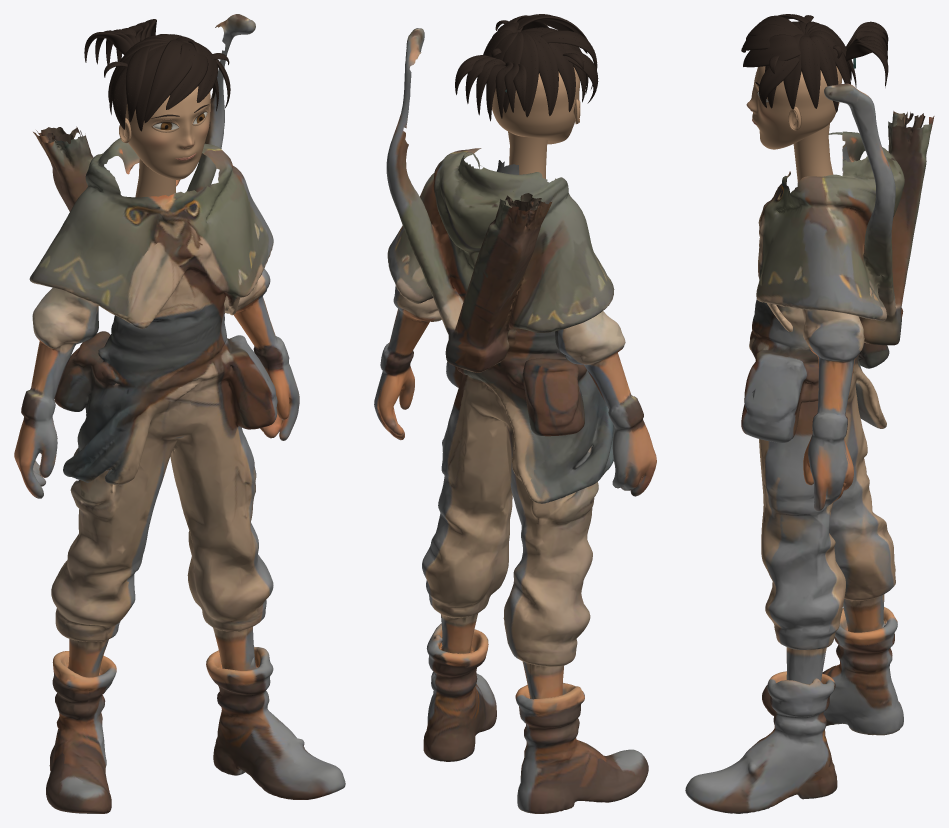
The model's file is willow-repaired.glb.
3 views of the same model, side by side, from view 1: azimuth 30°, elevation 25°; view 2: azimuth 150°, elevation 25°; view 3: azimuth 270°, elevation 25° (orthographic). The views are drawn at different scales.
Parts seen in each view (by area): view 1: Imported Willow clothing, Repaired WILLOW SCOUT continuous facial planes, Repaired WILLOW SCOUT hair swept fringe 0, Repaired WILLOW SCOUT hair swept fringe 1, Repaired WILLOW SCOUT hair swept fringe 4, Repaired fitted neck, Repaired WILLOW SCOUT hair gathered crown 10, Repaired WILLOW SCOUT hair swept fringe 2, Repaired WILLOW SCOUT hair swept fringe 5; view 2: Imported Willow clothing, Repaired WILLOW SCOUT continuous facial planes, Repaired fitted neck, Repaired WILLOW SCOUT hair gathered crown 7, Repaired WILLOW SCOUT hair gathered crown 6, Repaired WILLOW SCOUT hair gathered crown 8, Repaired WILLOW SCOUT hair swept fringe 4, Repaired WILLOW SCOUT hair gathered crown 5; view 3: Imported Willow clothing, Repaired WILLOW SCOUT continuous facial planes, Repaired fitted neck, Repaired WILLOW SCOUT hair swept fringe 2, Repaired WILLOW SCOUT hair gathered crown 2, Repaired WILLOW SCOUT hair swept fringe 3, Repaired WILLOW SCOUT hair gathered crown 3, Repaired WILLOW SCOUT hair swept fringe 1, Repaired WILLOW SCOUT hair gathered crown 1, Repaired WILLOW SCOUT hair tied tuft 6, Repaired WILLOW SCOUT hair gathered crown 4, Repaired WILLOW SCOUT hair swept fringe 0.
Part boxes in pixels (x1,y1,x2,y2): Imported Willow clothing: [14, 14, 345, 813]; Repaired WILLOW SCOUT continuous facial planes: [125, 86, 210, 179]; Repaired WILLOW SCOUT hair swept fringe 0: [144, 39, 192, 122]; Repaired WILLOW SCOUT hair swept fringe 1: [166, 43, 208, 109]; Repaired WILLOW SCOUT hair swept fringe 4: [125, 46, 150, 122]; Repaired fitted neck: [135, 158, 175, 197]; Repaired WILLOW SCOUT hair gathered crown 10: [135, 45, 166, 131]; Repaired WILLOW SCOUT hair swept fringe 2: [188, 41, 217, 102]; Repaired WILLOW SCOUT hair swept fringe 5: [112, 67, 127, 129]; Imported Willow clothing: [374, 28, 656, 813]; Repaired WILLOW SCOUT continuous facial planes: [492, 67, 579, 144]; Repaired fitted neck: [508, 131, 547, 178]; Repaired WILLOW SCOUT hair gathered crown 7: [522, 31, 558, 115]; Repaired WILLOW SCOUT hair gathered crown 6: [520, 32, 538, 117]; Repaired WILLOW SCOUT hair gathered crown 8: [521, 31, 575, 111]; Repaired WILLOW SCOUT hair swept fringe 4: [541, 30, 596, 89]; Repaired WILLOW SCOUT hair gathered crown 5: [502, 32, 524, 112]; Imported Willow clothing: [685, 83, 934, 813]; Repaired WILLOW SCOUT continuous facial planes: [746, 66, 842, 149]; Repaired fitted neck: [793, 123, 833, 181]; Repaired WILLOW SCOUT hair swept fringe 2: [743, 34, 800, 67]; Repaired WILLOW SCOUT hair gathered crown 2: [799, 35, 820, 108]; Repaired WILLOW SCOUT hair swept fringe 3: [759, 57, 799, 107]; Repaired WILLOW SCOUT hair gathered crown 3: [810, 35, 838, 112]; Repaired WILLOW SCOUT hair swept fringe 1: [741, 24, 790, 52]; Repaired WILLOW SCOUT hair gathered crown 1: [783, 34, 807, 109]; Repaired WILLOW SCOUT hair tied tuft 6: [845, 43, 888, 84]; Repaired WILLOW SCOUT hair gathered crown 4: [809, 30, 850, 84]; Repaired WILLOW SCOUT hair swept fringe 0: [746, 15, 804, 39].
Size of the model in its own units: 0.7009 by 1.81 by 0.5561.
68 materials, 1 textured.
